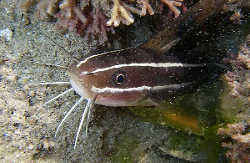gonzui: (45, 19, 229, 117)
